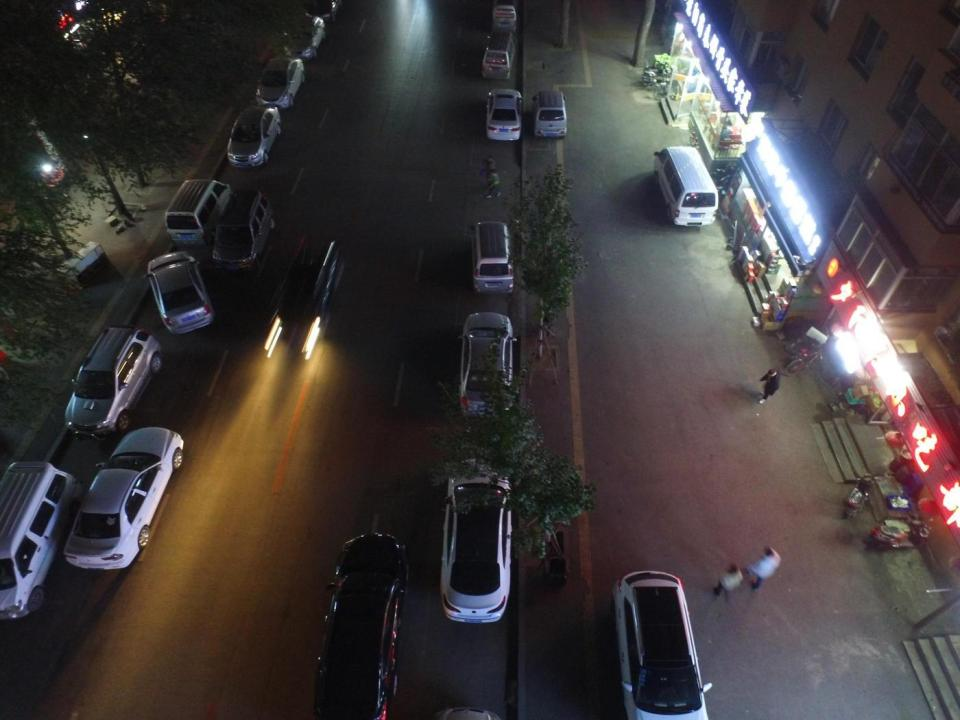car: (315, 532, 410, 720), (62, 426, 184, 570), (610, 569, 710, 720), (440, 458, 512, 625), (64, 323, 162, 443), (274, 233, 344, 336), (458, 311, 514, 420), (147, 250, 215, 335), (226, 104, 282, 170), (254, 53, 306, 110), (281, 13, 327, 59), (486, 87, 522, 141), (534, 89, 567, 139), (430, 705, 502, 720)
van: (0, 462, 82, 622), (212, 188, 276, 274), (654, 145, 720, 227), (164, 178, 234, 248), (471, 220, 514, 296), (481, 30, 519, 82), (303, 0, 344, 22), (491, 1, 517, 27)
